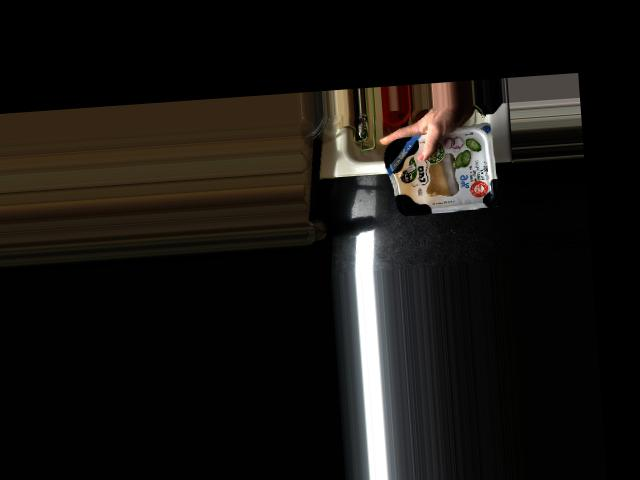cheese: (382, 123, 495, 216)
